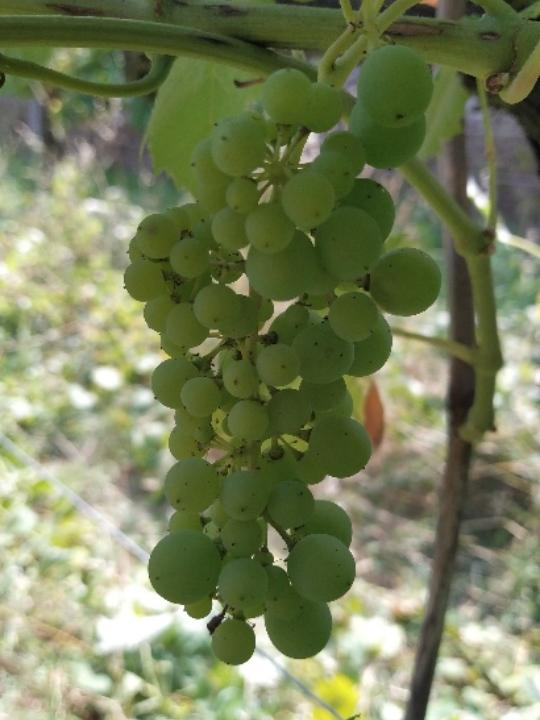grape: (117, 40, 443, 670)
